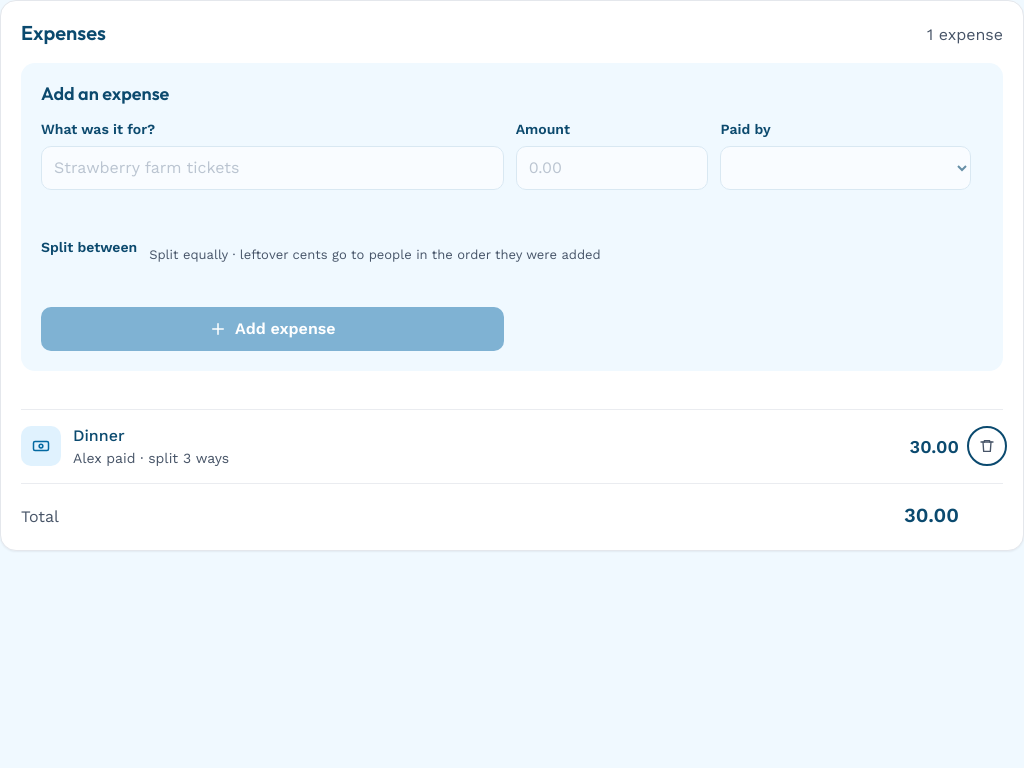
Scenario: ExpensesPanelComponent › Cancel closes the dialog, keeps the expense and sends no DELETE (F4.AC12)
Click the button named "Delete Dinner": point(987, 446) [971, 430, 1003, 462]
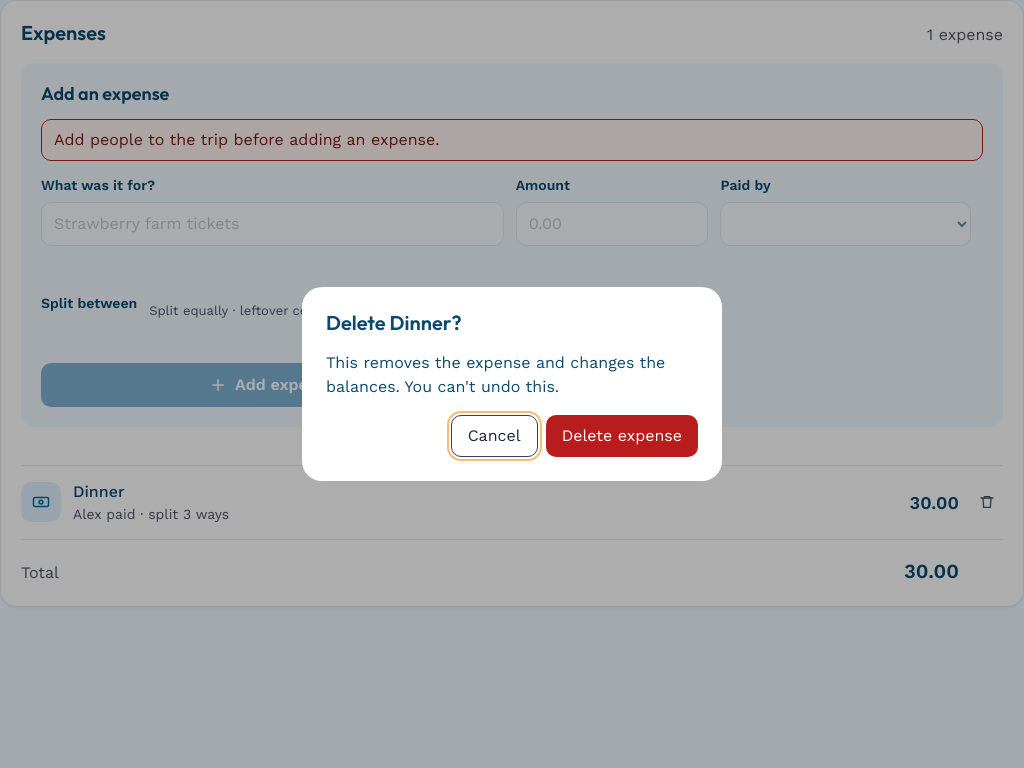
Click the button "Cancel": point(494, 436) [451, 415, 538, 457]
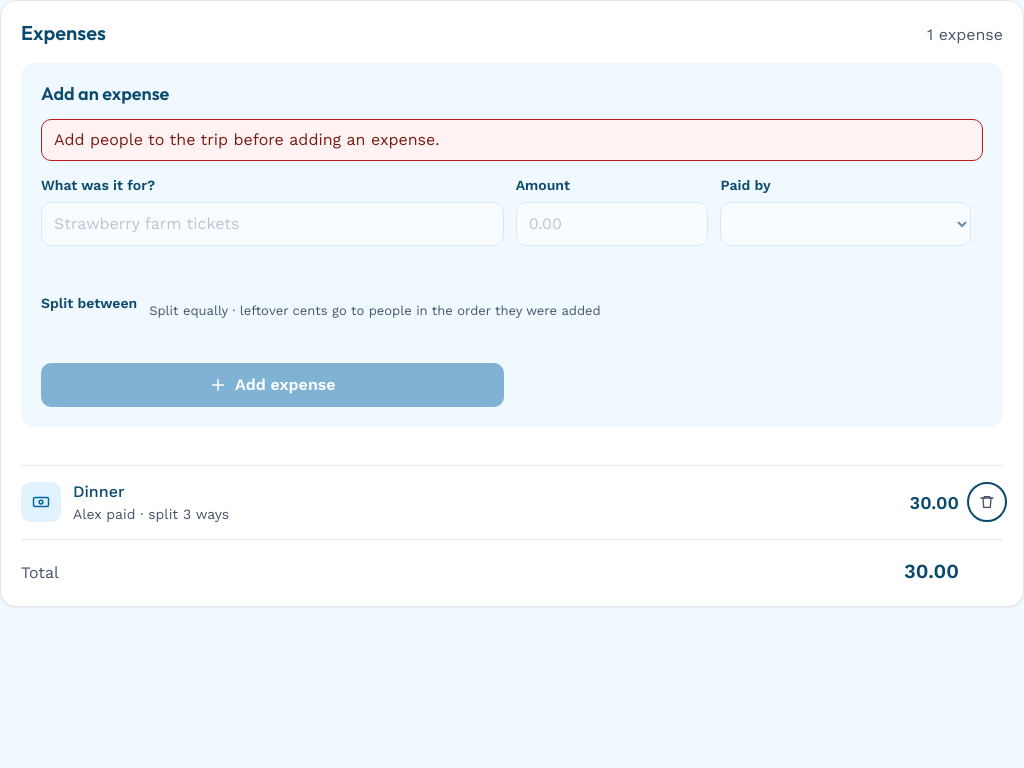
Expected: the button named "Delete Dinner" is shown, [971, 486, 1003, 518]
Expected: the dialog is gone
